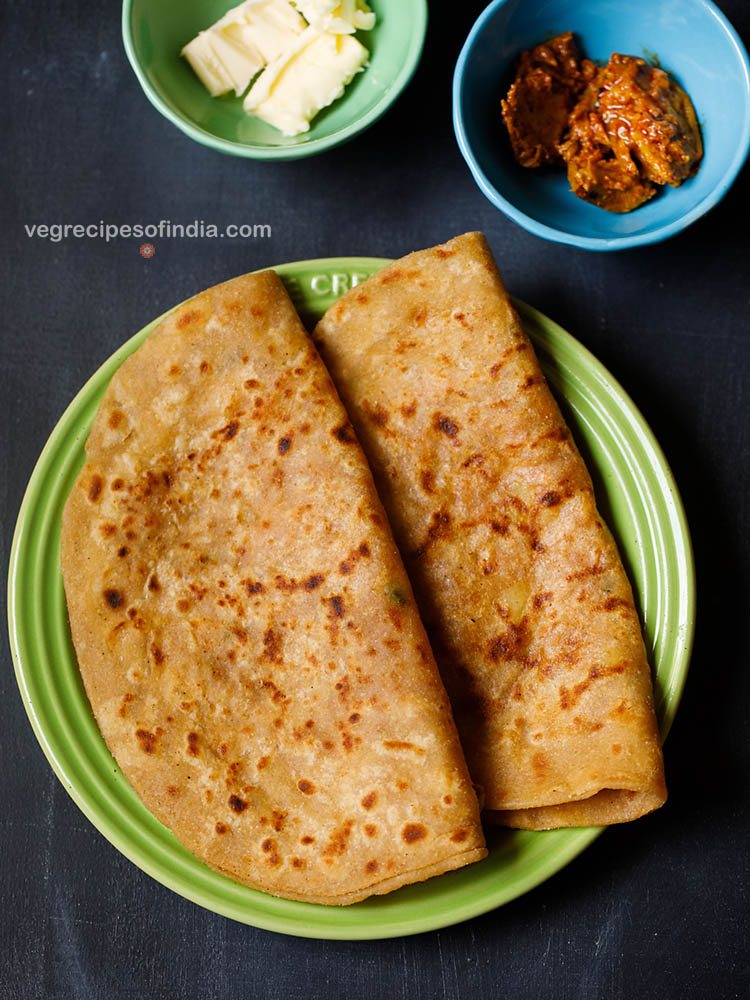aloo_paratha: (57, 230, 672, 903)
